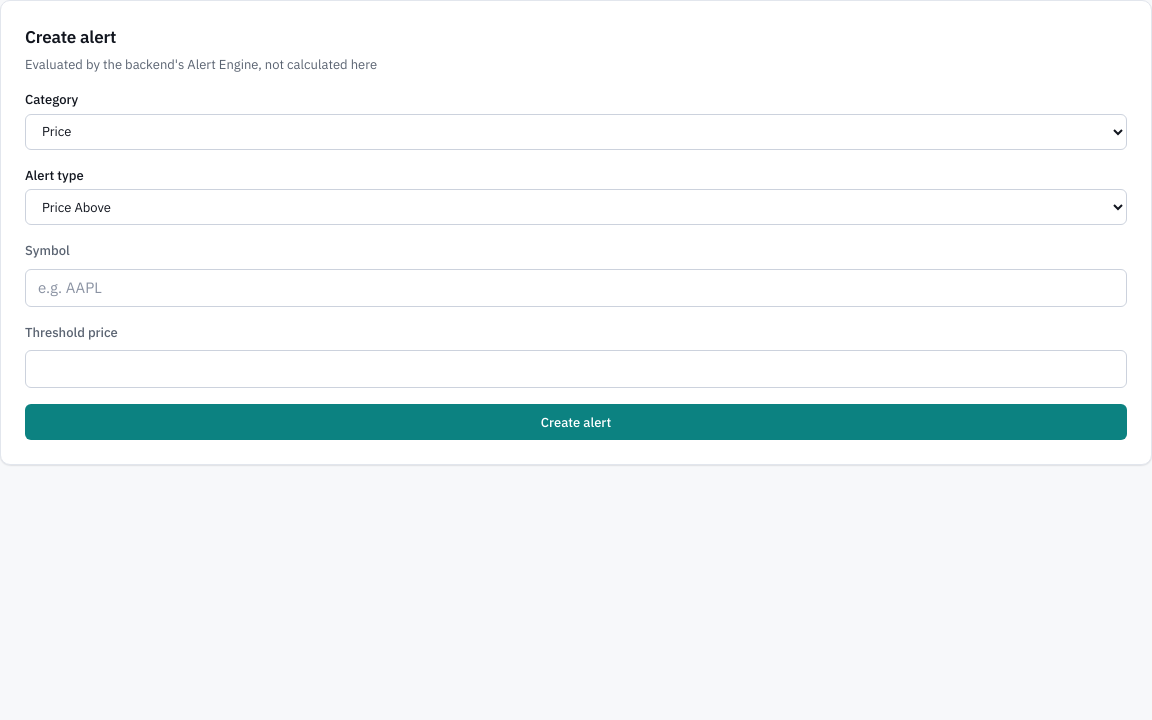
Test case: CreateAlertForm › creates a real CreateAlertRequest matching the backend schema exactly on valid input
Type "aapl" into the field labelled "Symbol" at (576, 288), box [25,268,1127,306]
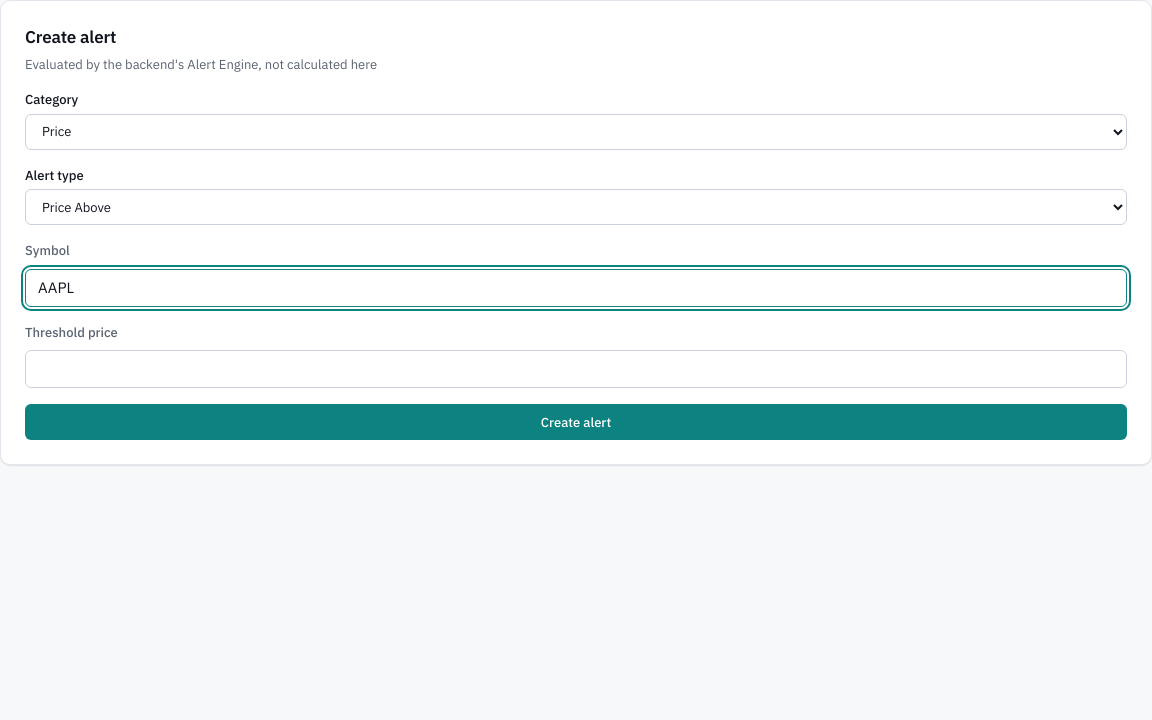
Type "200" into the field labelled "Threshold price" at (576, 369), box [25,350,1127,388]
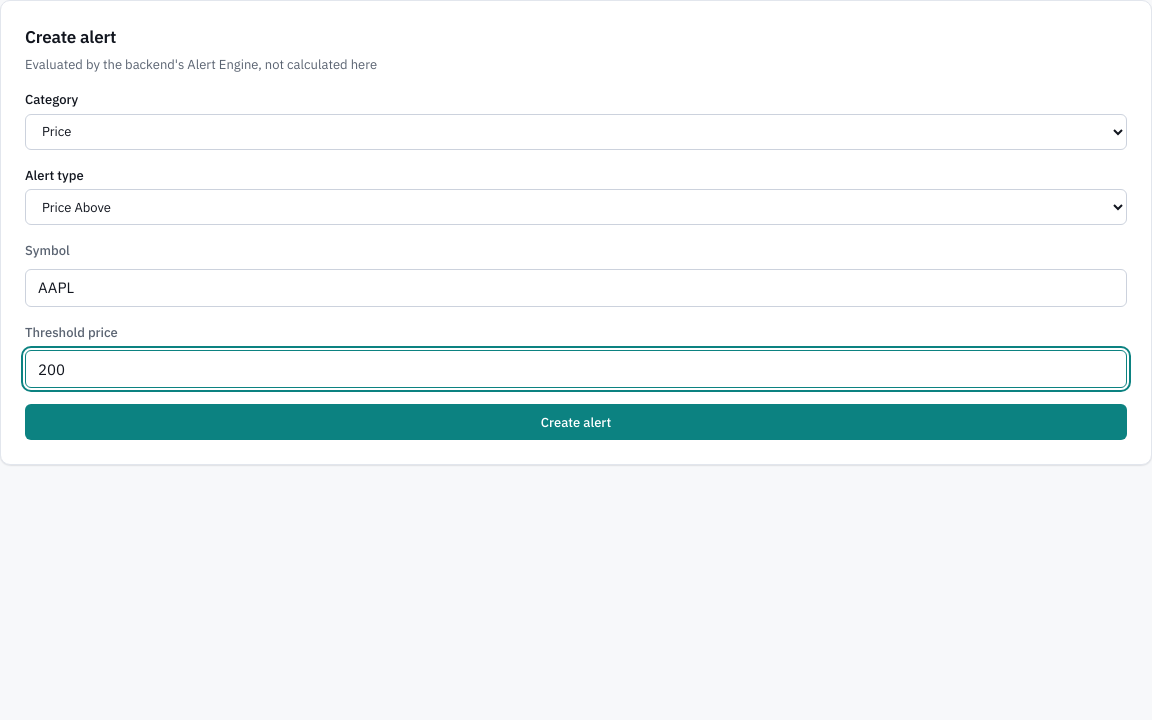
Click the button "Create alert" at (576, 422), box [25,404,1127,440]
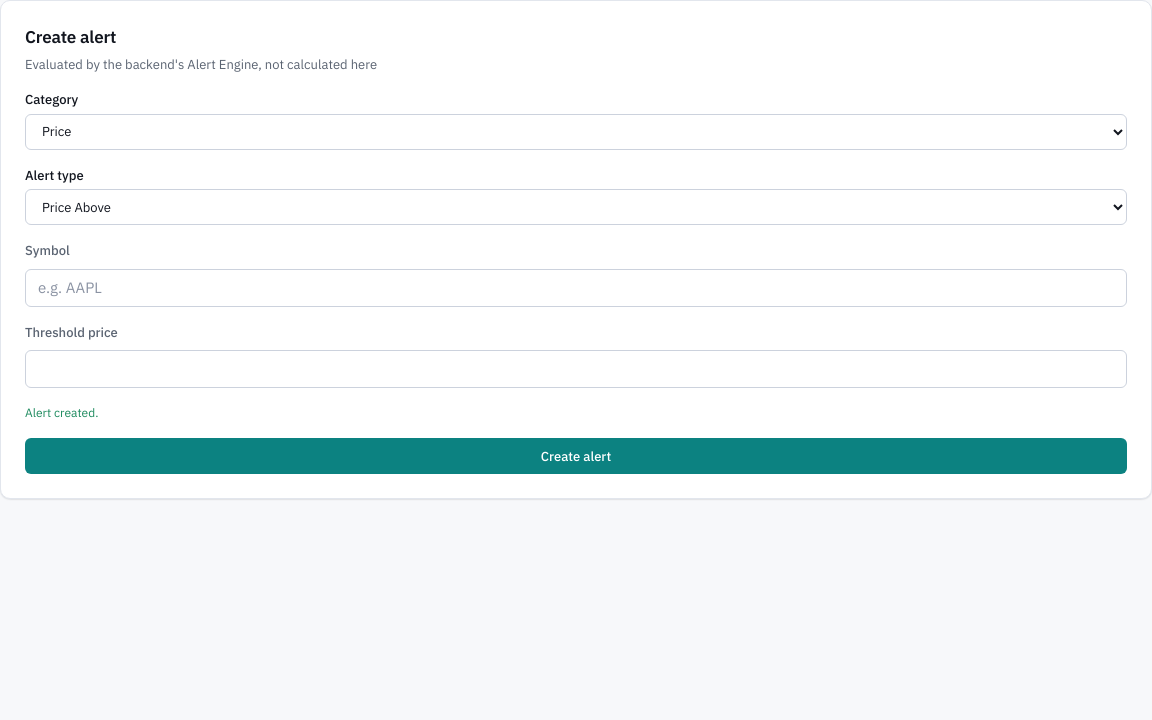
Expected: the text "Alert created." is shown, [25,405,98,420]
